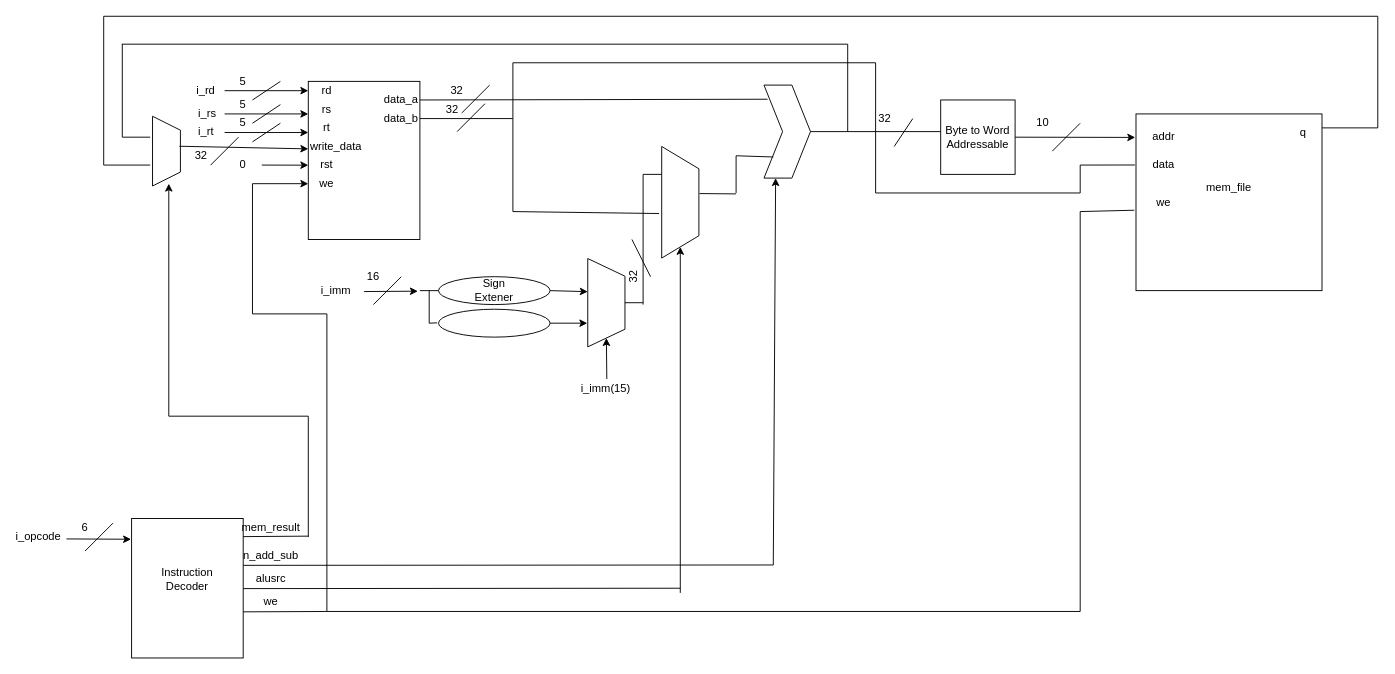
Some shapes in this 1395 by 674 pixel diagram are drawn without their labels. Each missing label, with the centre of its shape:
"adder_subtractor" belongs at pixel 786 131.
"Zero Extender" belongs at pixel 494 322.
